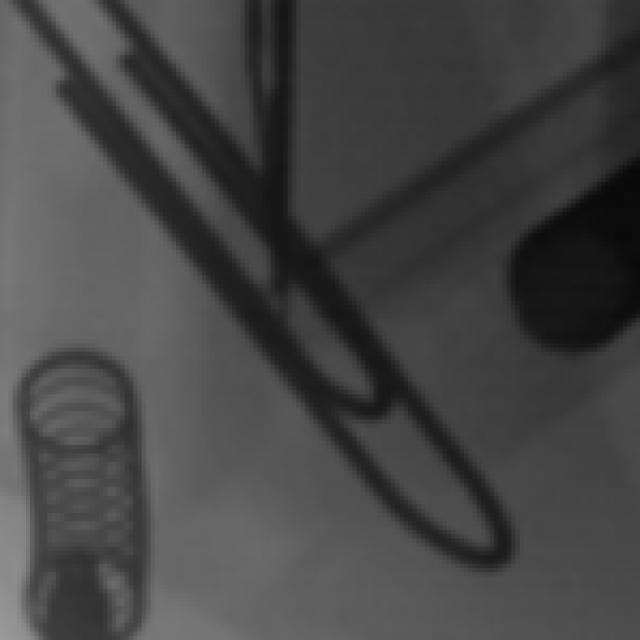BLADE: (225, 1, 324, 289)
